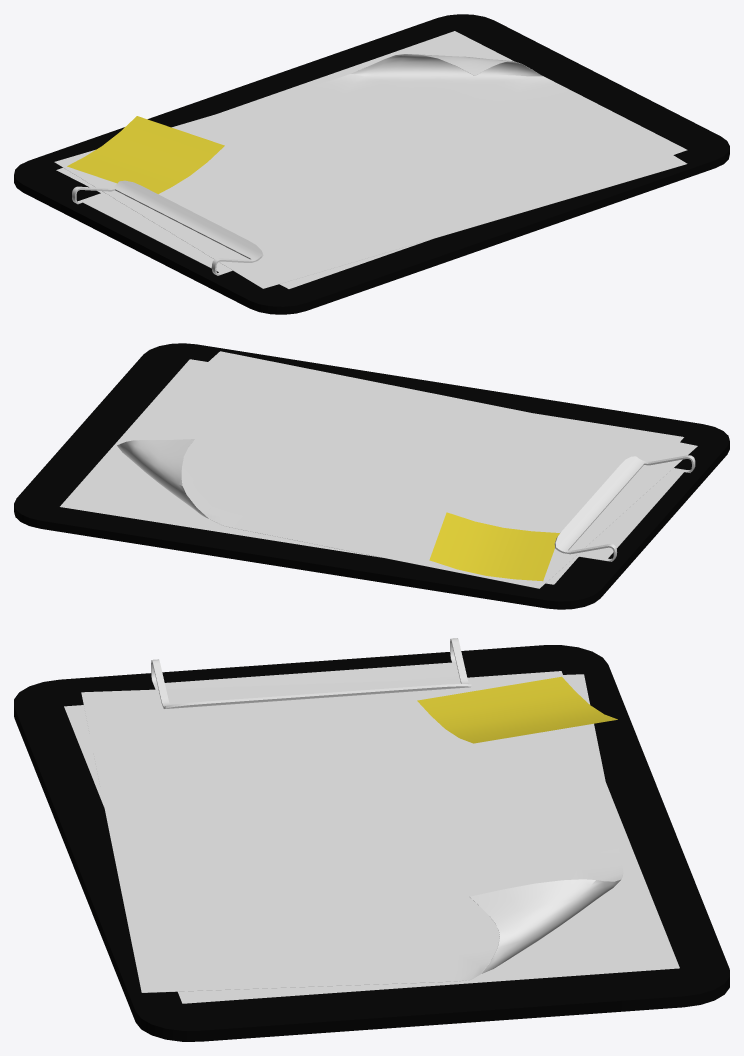
The model's file is clipboard.fbx.
The picture shows the model from 3 angles, top to bottom: view 1: azimuth 30°, elevation 25°; view 2: azimuth 150°, elevation 25°; view 3: azimuth 270°, elevation 25°; orthographic projection. The views are drawn at different scales.
Visible parts, largest first — view 1: FoldedPaper, Clipboard, Postit, Paper; view 2: FoldedPaper, Clipboard, Paper, Postit; view 3: FoldedPaper, Clipboard, Paper, Postit.
Boxes of the visible parts, box(x1,y1,x2,y2) form: FoldedPaper: box(54, 54, 687, 288); Clipboard: box(14, 14, 729, 314); Postit: box(67, 116, 224, 194); Paper: box(56, 31, 687, 288); FoldedPaper: box(117, 351, 697, 588); Clipboard: box(14, 343, 729, 609); Paper: box(60, 359, 683, 584); Postit: box(429, 512, 559, 581); FoldedPaper: box(81, 674, 623, 992); Clipboard: box(14, 638, 729, 1041); Paper: box(64, 671, 679, 1003); Postit: box(417, 676, 617, 743).
Size of the model in its own units: 0.7475 by 0.9532 by 0.0574.
